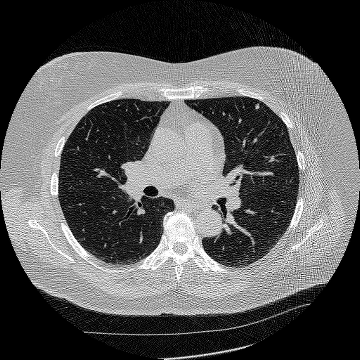nodule: (255, 104, 259, 108)
